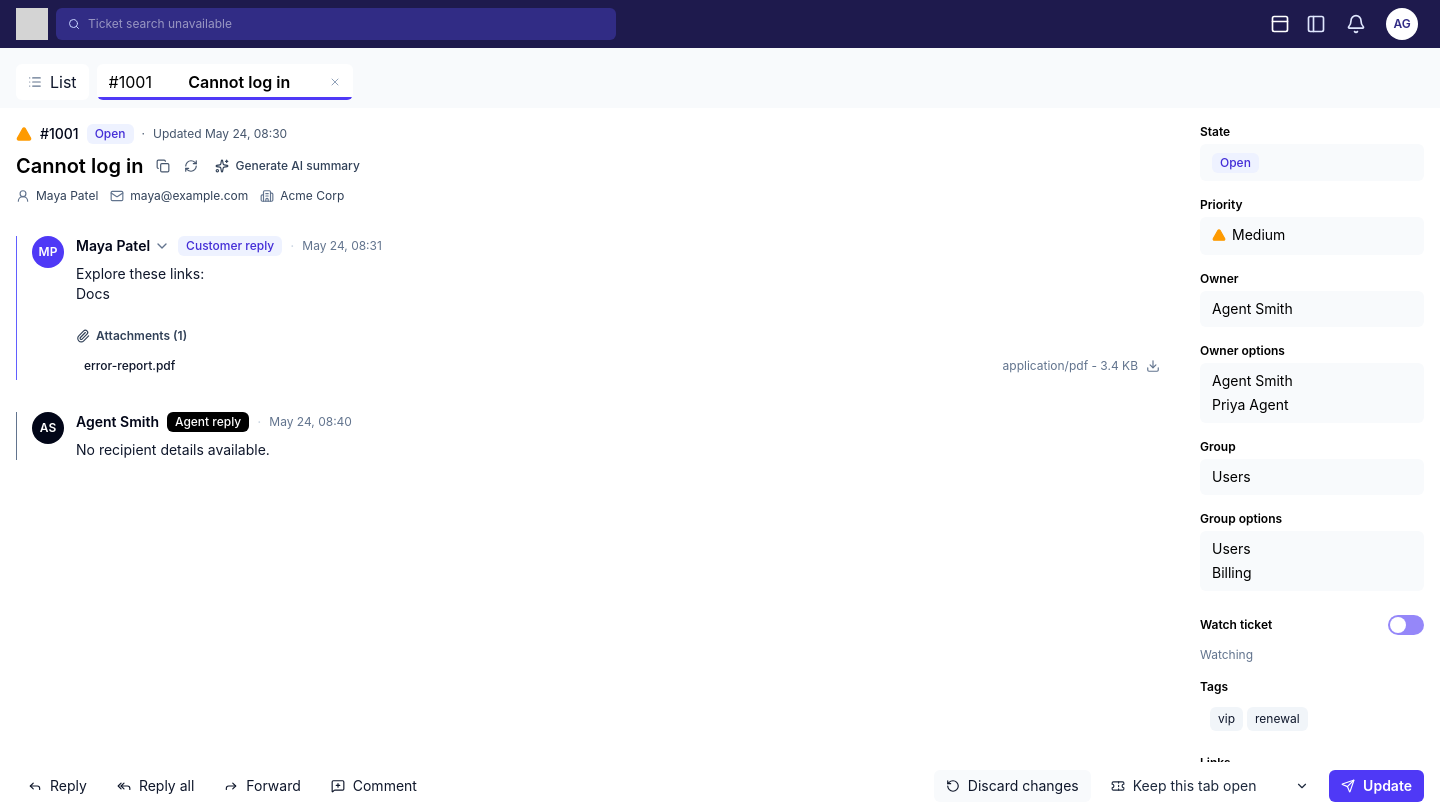
Scenario: TicketWorkspace selected detail › renders selected detail through the production detail/thread components
The width and height of the screenshot is (1440, 810).
Expected: the heading "Cannot log in" is shown, [16,152,143,180]
Expected: the element named "Customer organization: Acme Corp" is shown, [260,188,344,204]
Click the button with aria-label "Message details for Maya Patel" at (123, 246), box [76,236,170,256]
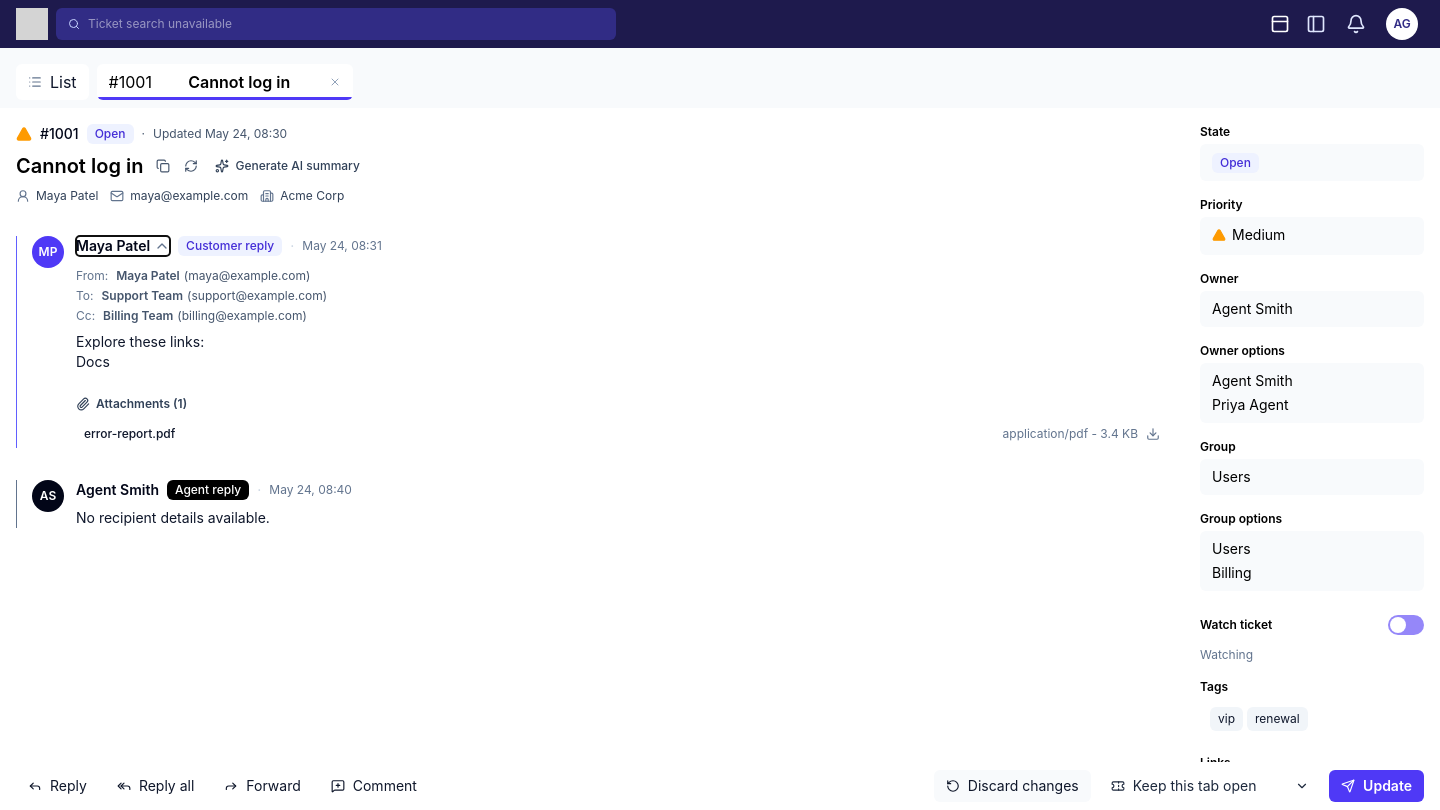
Expected: the text "From:" is shown, [76,268,108,283]
Expected: the text "(maya@example.com)" is shown, [184,268,310,283]
Expected: the text "To:" is shown, [76,288,94,303]
